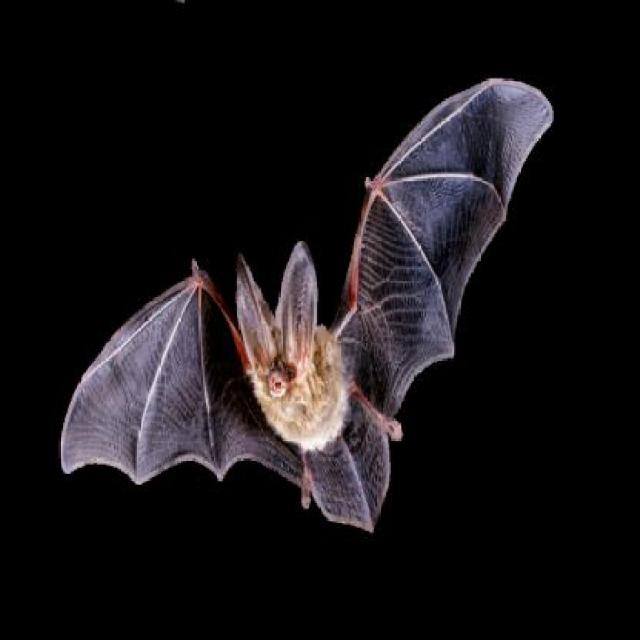Bat: (50, 74, 561, 532)
